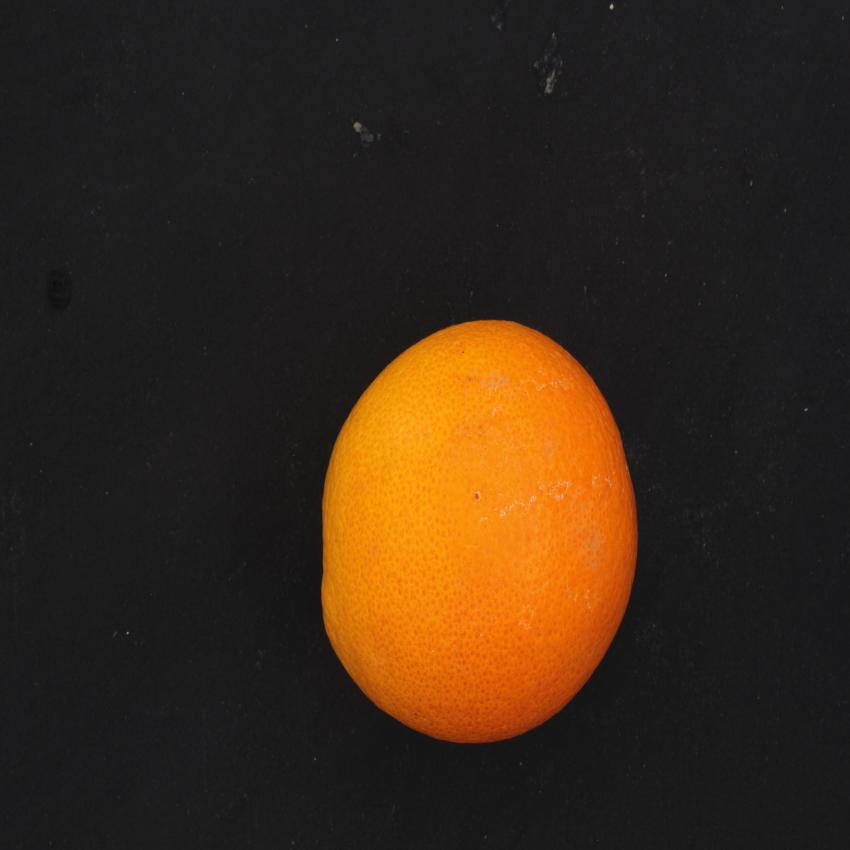Mal estado: (308, 310, 654, 759)
